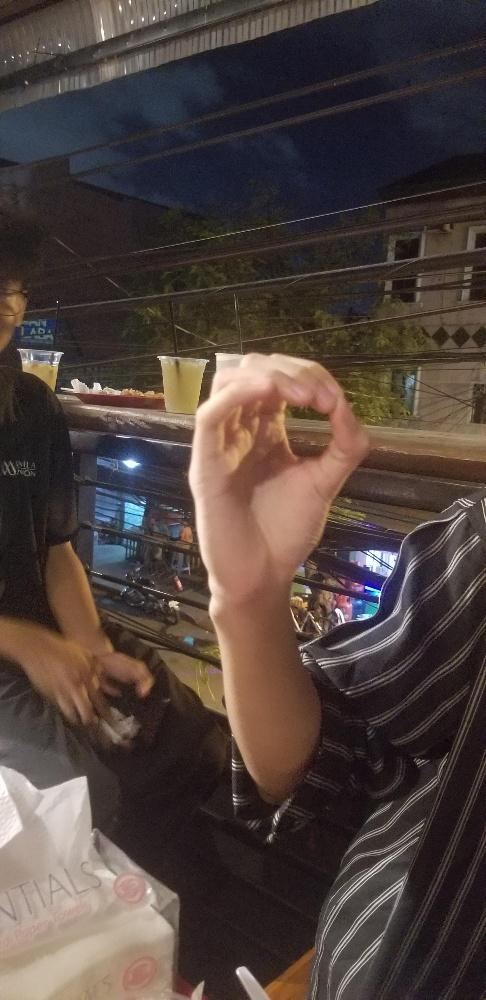o: (185, 351, 372, 572)
